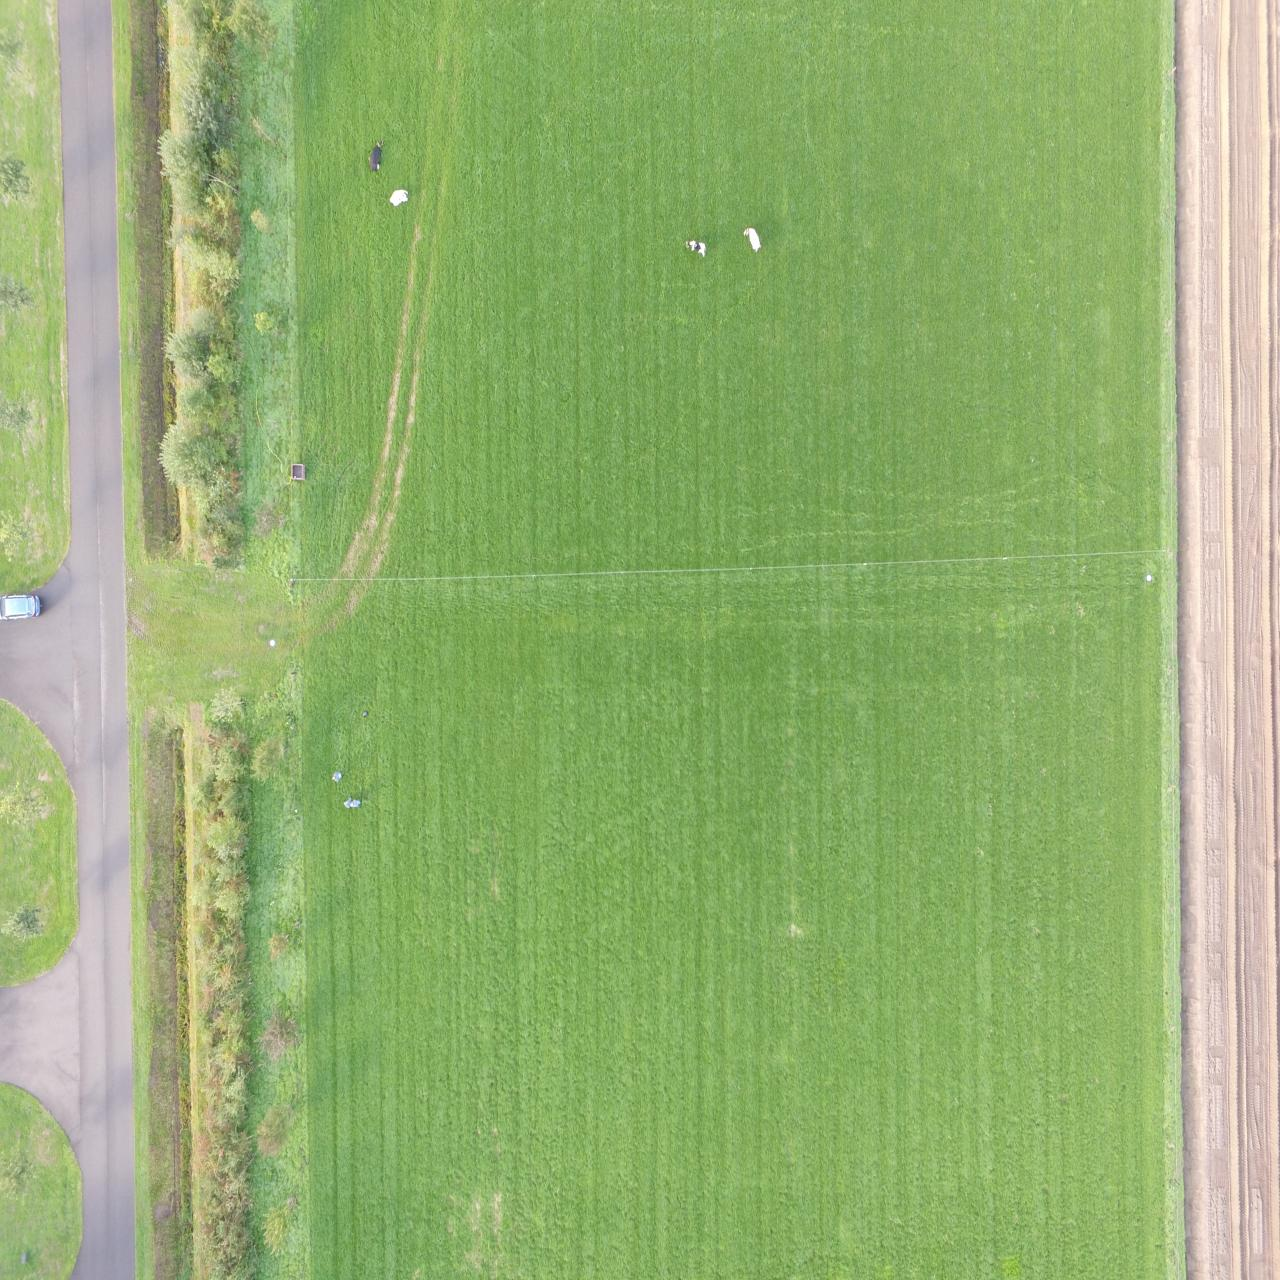cow: (741, 224, 762, 253), (367, 138, 382, 175), (681, 240, 707, 257), (388, 190, 408, 206)
